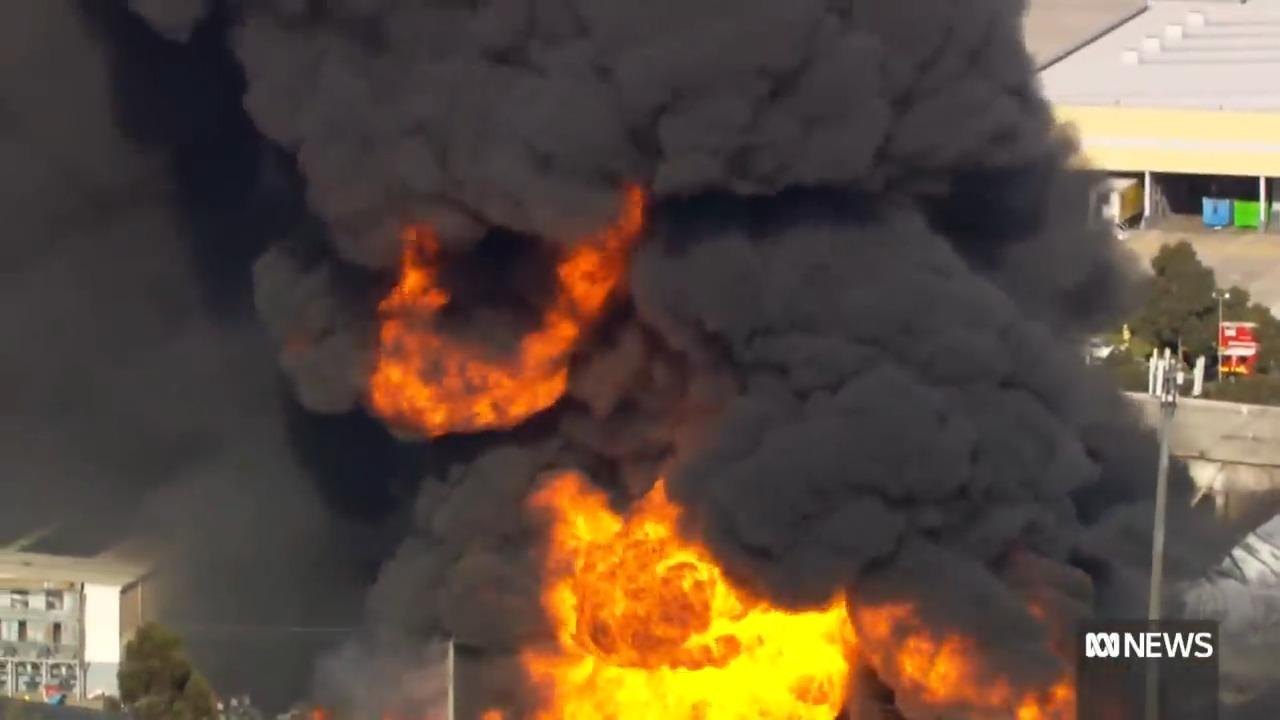fire: (494, 479, 827, 719), (386, 220, 594, 433), (566, 169, 654, 328)
